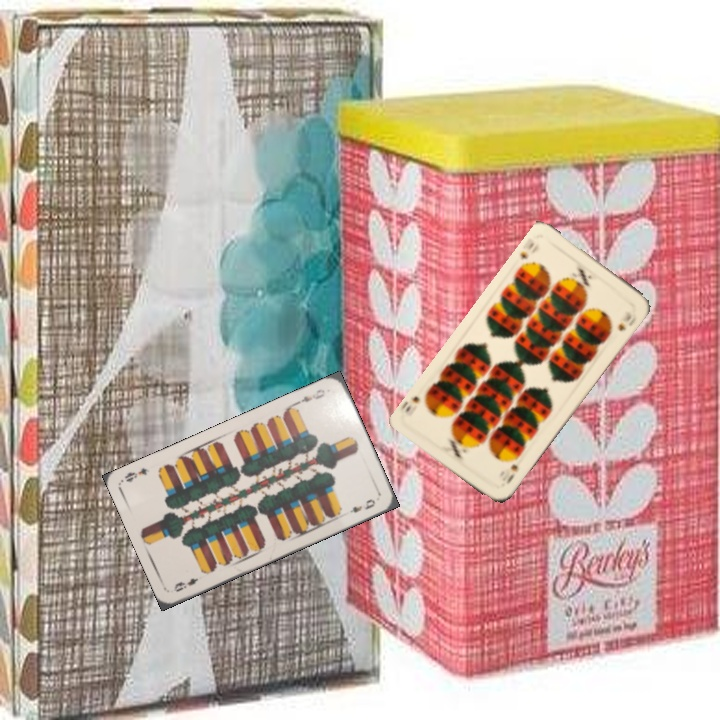E9: (292, 385, 328, 407), (169, 574, 201, 595)
S10: (516, 236, 537, 263), (502, 460, 521, 487)
